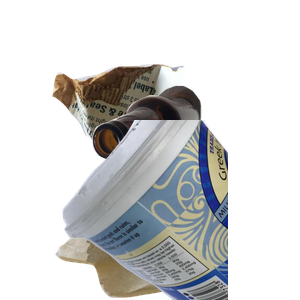cardboard: (50, 62, 228, 226)
glass: (90, 83, 300, 235)
plastic: (60, 120, 300, 300)
trash: (53, 121, 239, 300)
